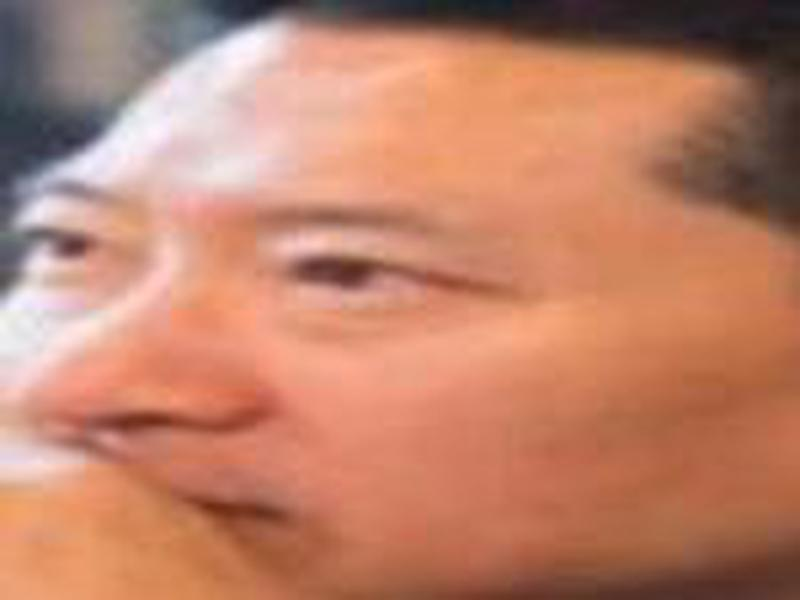without_mask: (8, 16, 800, 600)
